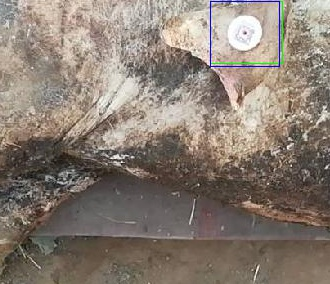text: (210, 1, 282, 63)
